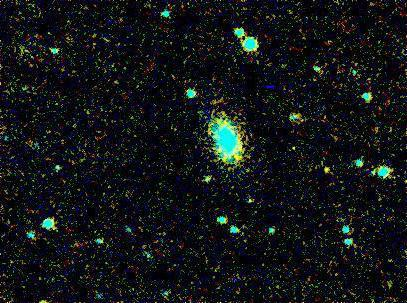star: (312, 155, 342, 185)
